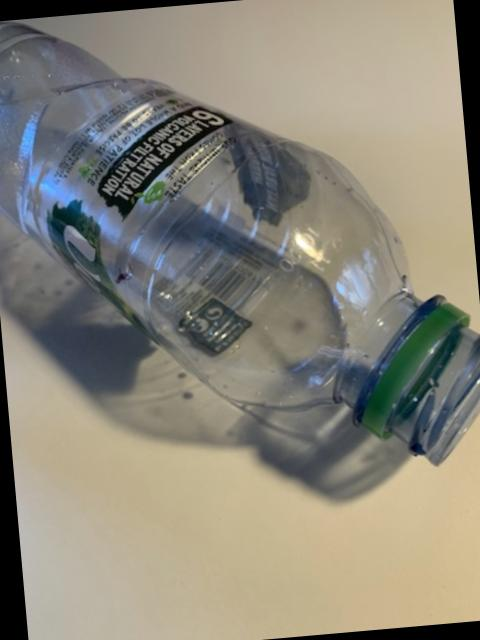plastic: (0, 21, 480, 494)
